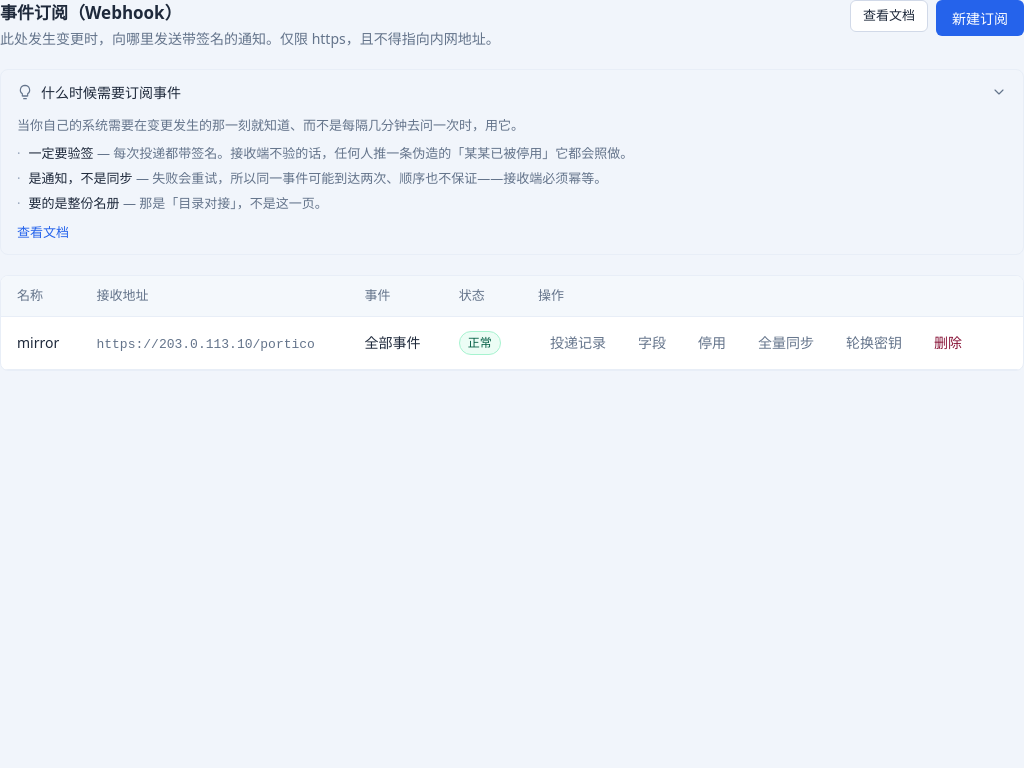
Scenario: sending a full sync › reports what it queued, and what the receiver has to do about it
Click the button "全量同步": [786, 343] box [746,327,826,359]
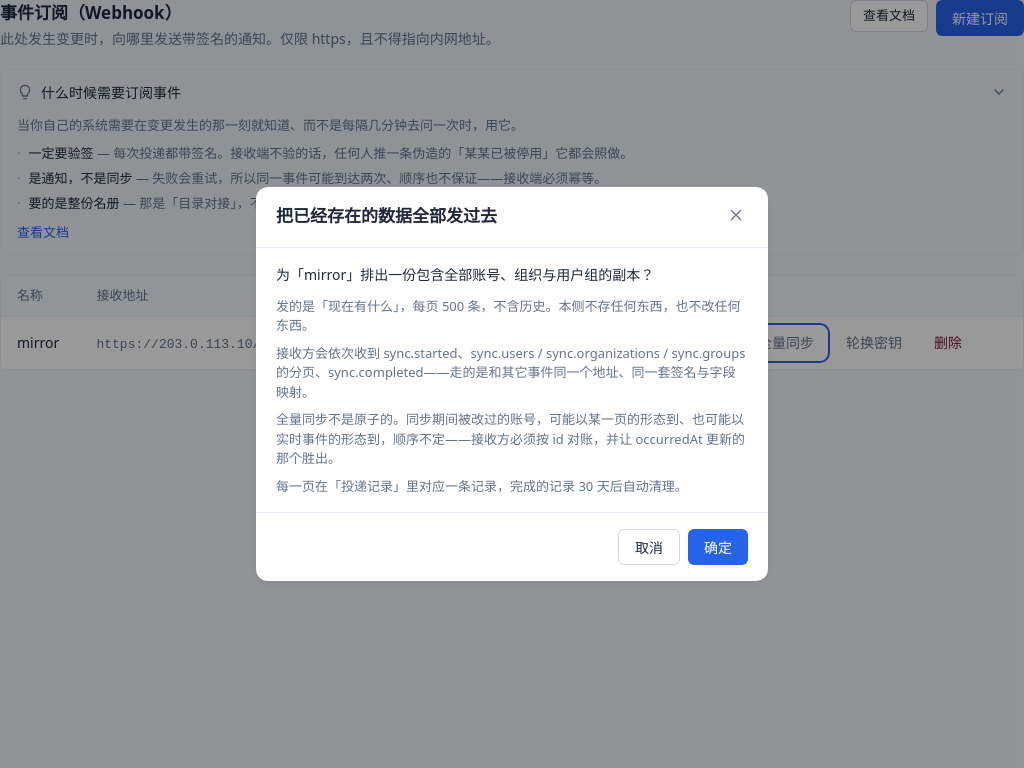
Click the button "确定": [718, 547] box [688,529,748,565]
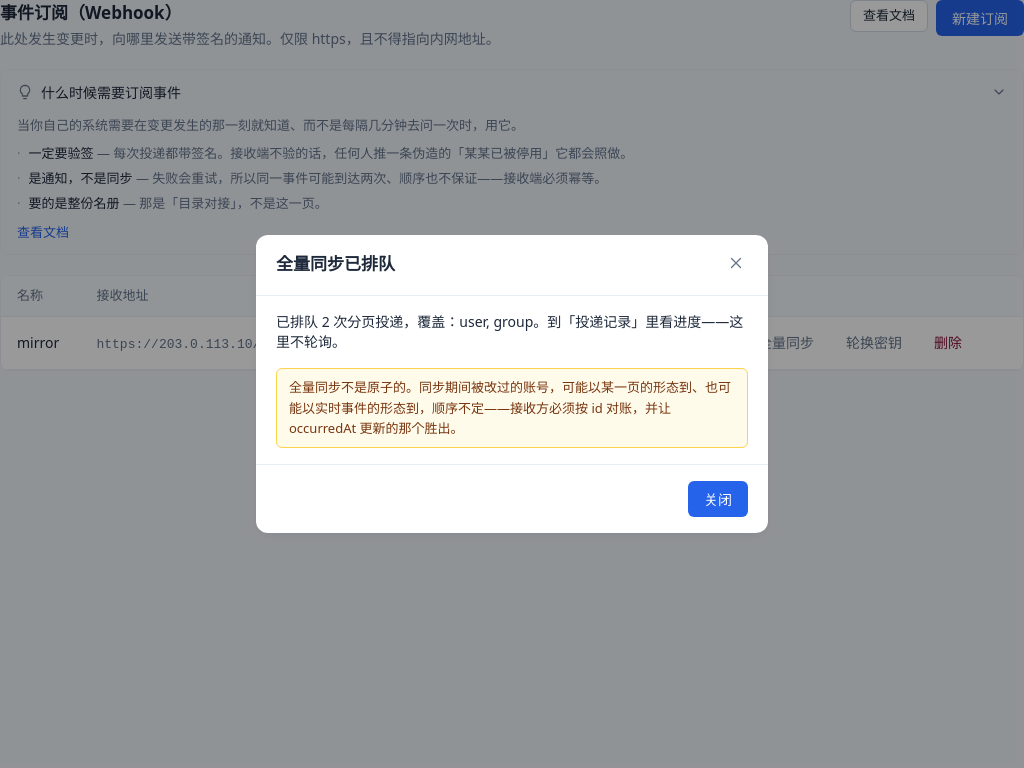
Result: the text "按 id 对账" is shown at [289,378,731,437]
Result: the text "已排队 2 次分页投递，覆盖：user, group。到「投递记录」里看进度——这里不轮询。" is shown at [276,312,748,352]
